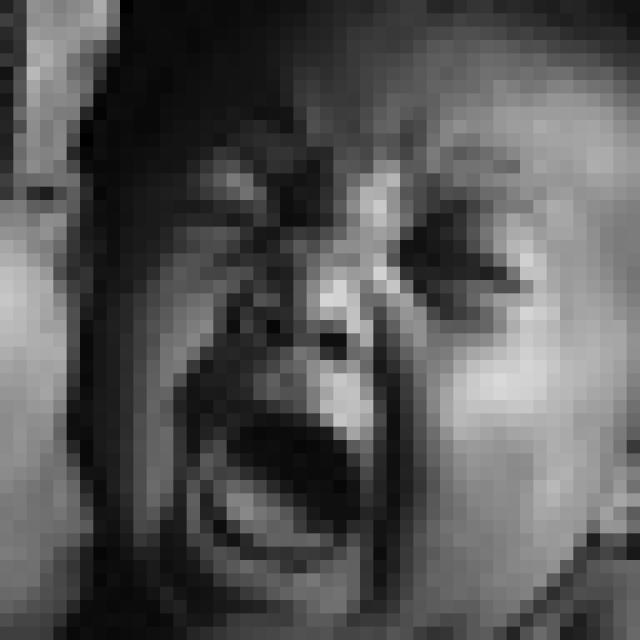sad: (164, 115, 570, 618)
